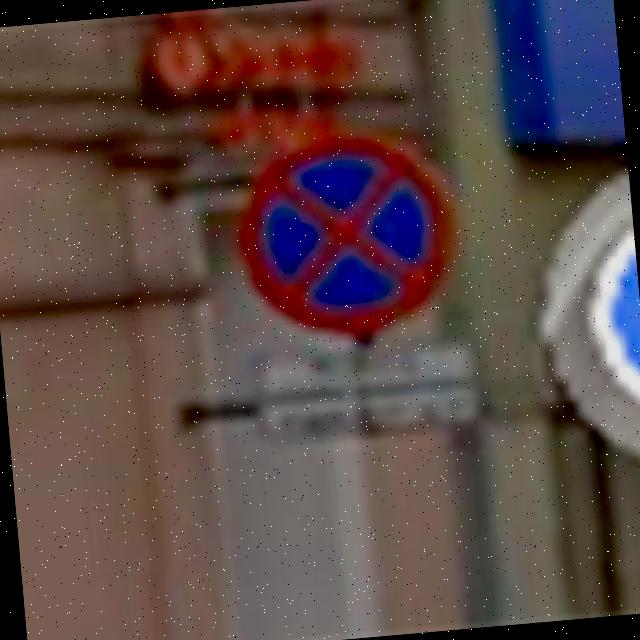Zakaz zatrzymywania sie: (224, 117, 469, 347)
